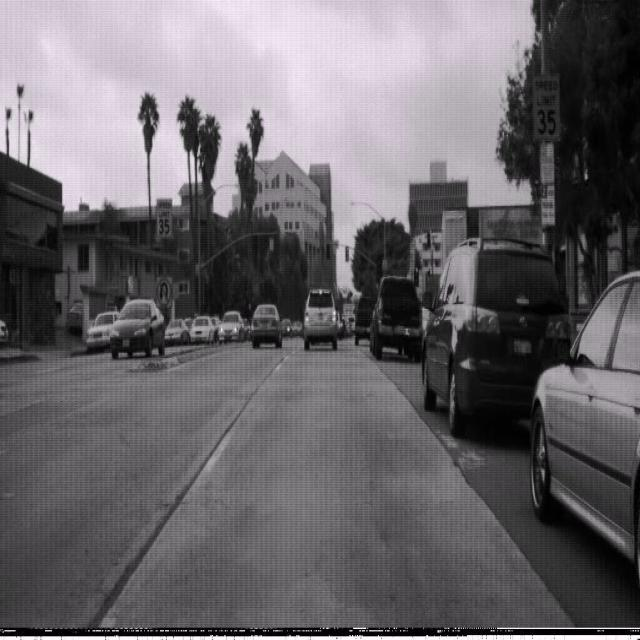speedLimit35: (532, 72, 560, 141), (155, 196, 173, 239)
